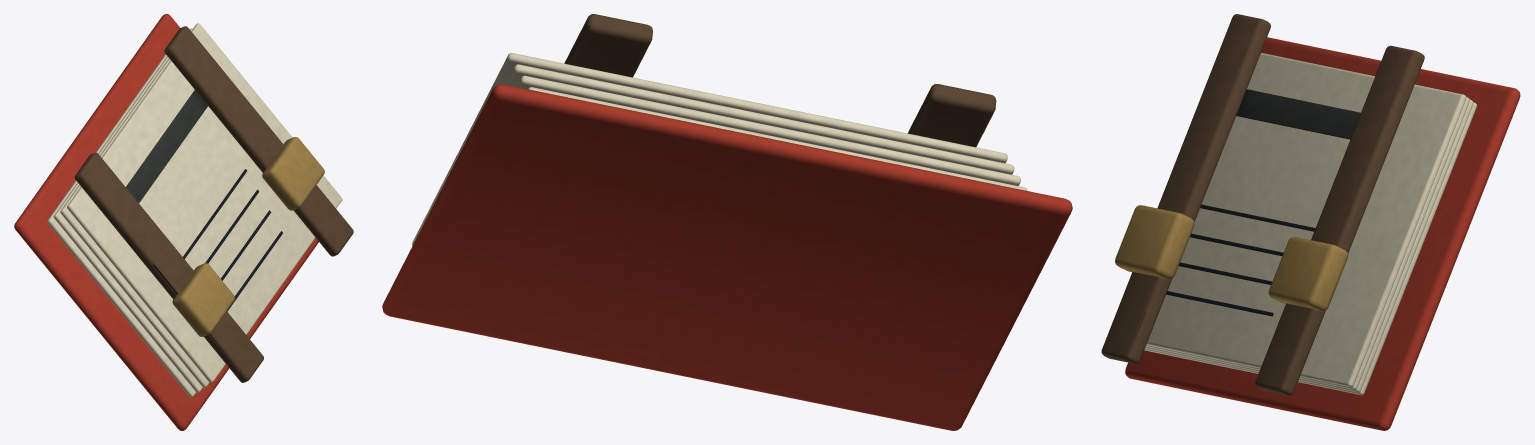
3 renders of one model, left to right at view 1: azimuth 30°, elevation 25°; view 2: azimuth 150°, elevation 25°; view 3: azimuth 270°, elevation 25°, orthographic. The views are drawn at different scales.
Visible parts, largest first — view 1: Folded document backing; view 2: Folded document backing; view 3: Folded document backing.
Part boxes in pixels (left/top/right/bottom): Folded document backing: left=14, top=14, right=353, bottom=430; Folded document backing: left=382, top=14, right=1072, bottom=430; Folded document backing: left=1101, top=14, right=1520, bottom=430.
Bounding box in the file's own units: 1.35 × 1.06 × 1.01.
1 material, 1 textured.
